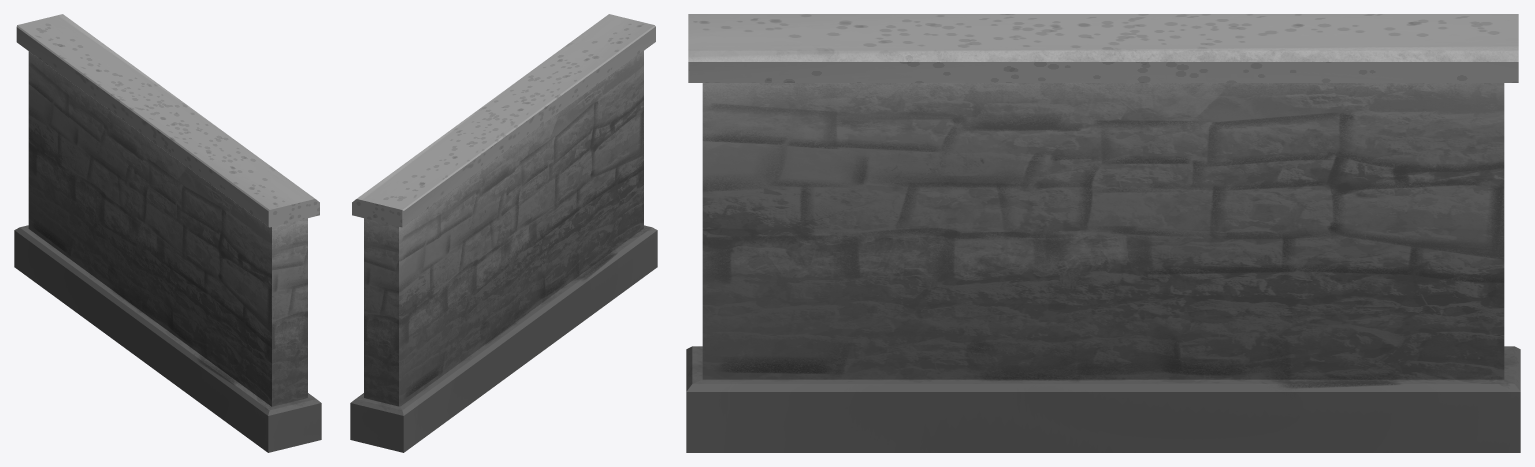
The model's file is wall.fbx.
3 views of the same model, side by side, from view 1: azimuth 30°, elevation 25°; view 2: azimuth 150°, elevation 25°; view 3: azimuth 270°, elevation 25° (orthographic). The views are drawn at different scales.
Visible parts, largest first — view 1: Wall.001; view 2: Wall.001; view 3: Wall.001.
Part boxes in pixels (x1=…): Wall.001: x1=14, y1=14, x2=321, y2=452; Wall.001: x1=350, y1=14, x2=657, y2=452; Wall.001: x1=686, y1=14, x2=1520, y2=452.
Size of the model in its own units: 295 by 1278 by 2430.
